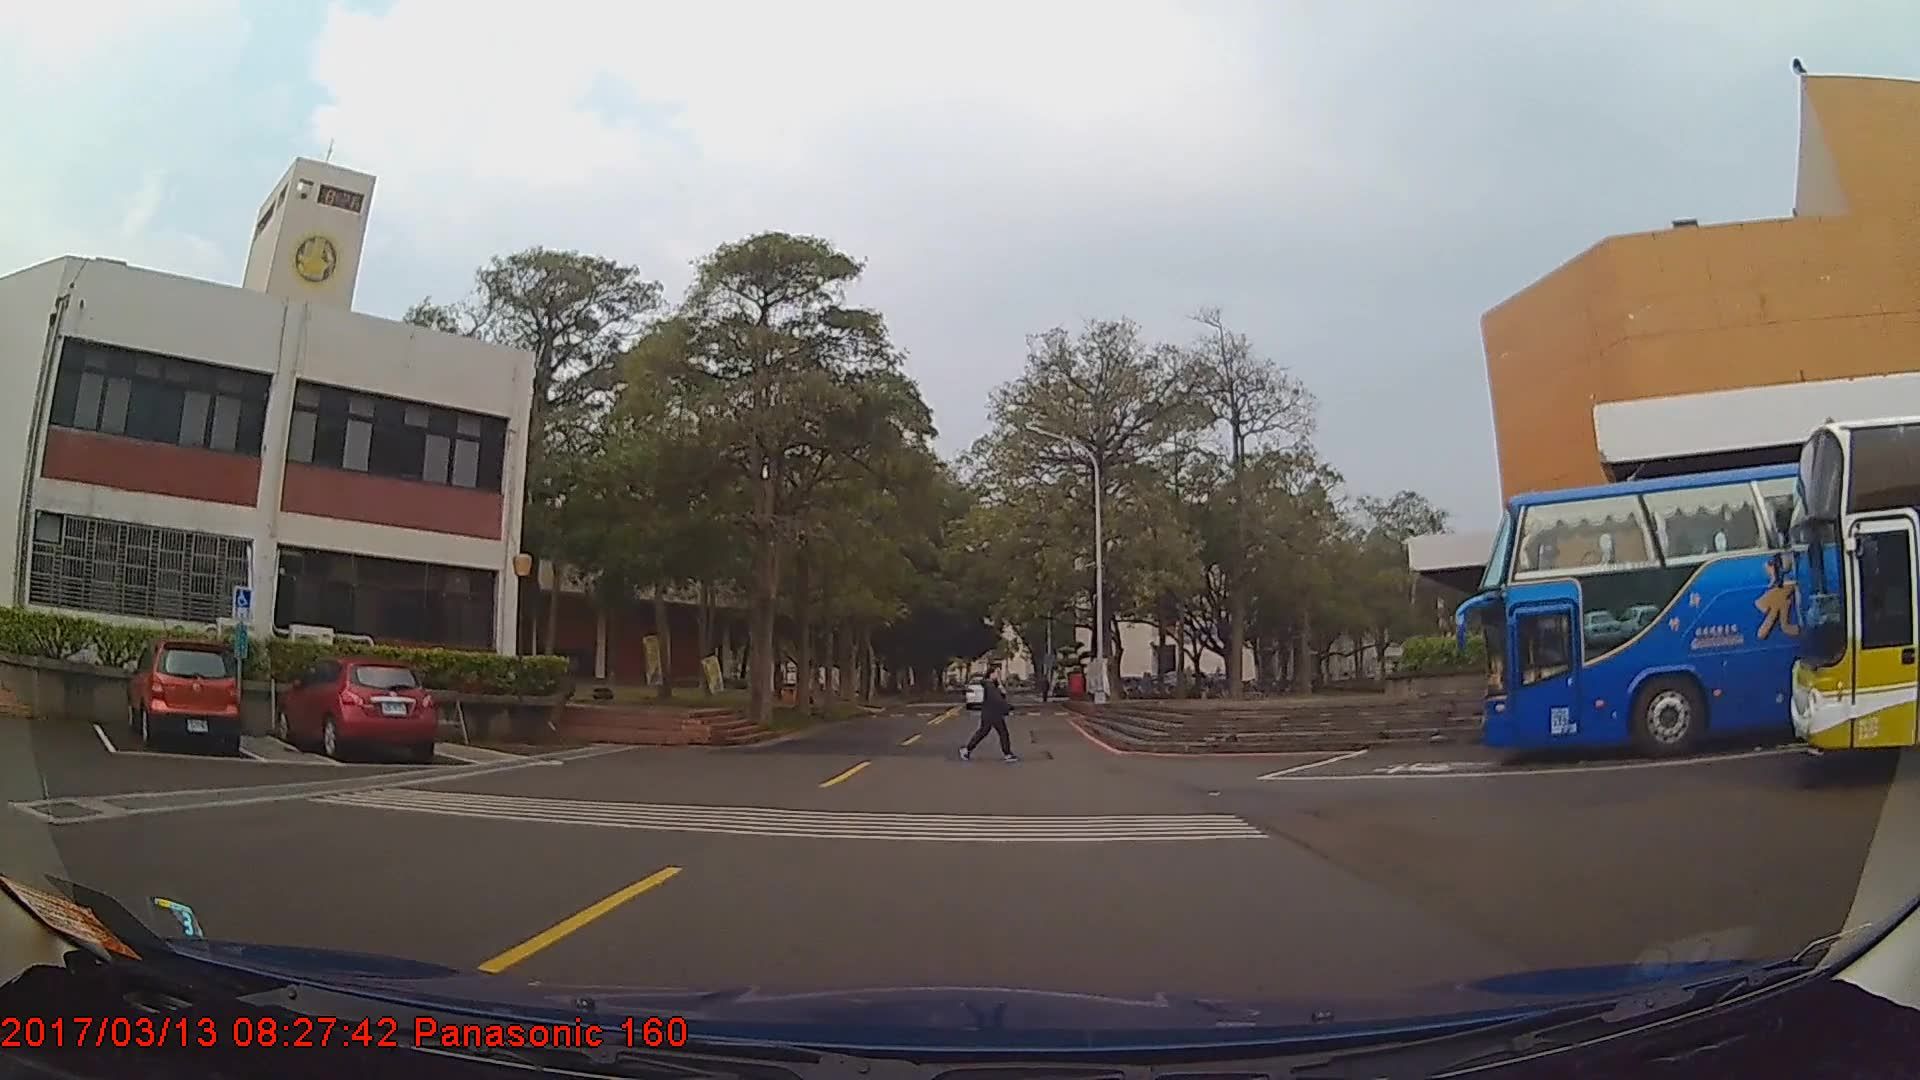pedestrian: (966, 662, 1021, 767)
vehicle: (1479, 442, 1920, 763), (272, 660, 433, 764), (126, 640, 239, 753)
